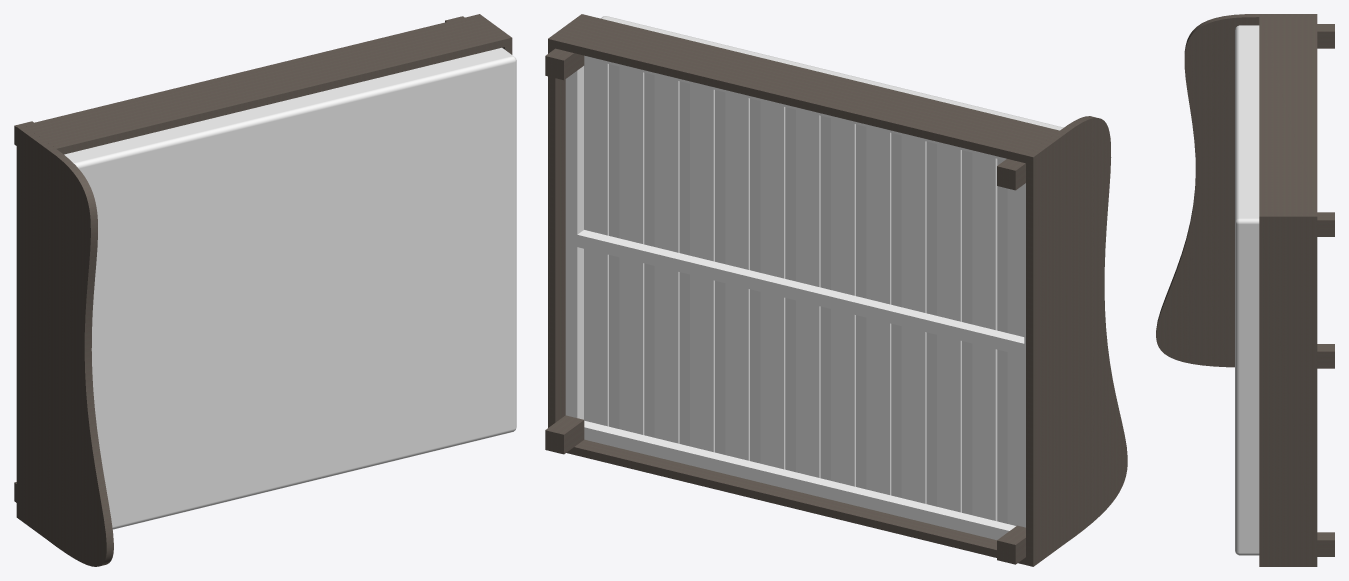
The model's file is кровать.glb.
3 renders of one model, left to right at view 1: azimuth 30°, elevation 25°; view 2: azimuth 150°, elevation 25°; view 3: azimuth 270°, elevation 25°, orthographic. The views are drawn at different scales.
Parts seen in each view (by area): view 1: матрас, изголовье, борта; view 2: ламели, матрас, изголовье, борта, опорные брусья, изножье, ножки; view 3: изножье, изголовье, матрас, борта, ножки.
Part boxes in pixels (x1,y1,x2,y2): матрас: [64, 47, 516, 529]; изголовье: [16, 125, 113, 566]; борта: [24, 16, 504, 154]; ламели: [584, 58, 1024, 526]; матрас: [601, 16, 1063, 523]; изголовье: [1026, 116, 1127, 566]; борта: [555, 16, 1059, 564]; опорные брусья: [565, 55, 1025, 540]; изножье: [548, 14, 588, 427]; ножки: [545, 48, 1025, 564]; изножье: [1259, 213, 1317, 566]; изголовье: [1156, 14, 1317, 367]; матрас: [1235, 25, 1259, 555]; борта: [1259, 17, 1317, 213]; ножки: [1317, 24, 1334, 556].
Size of the model in its own units: 2.06 by 1.66 by 0.7698.
Materials: 4 (1 with a texture image).
